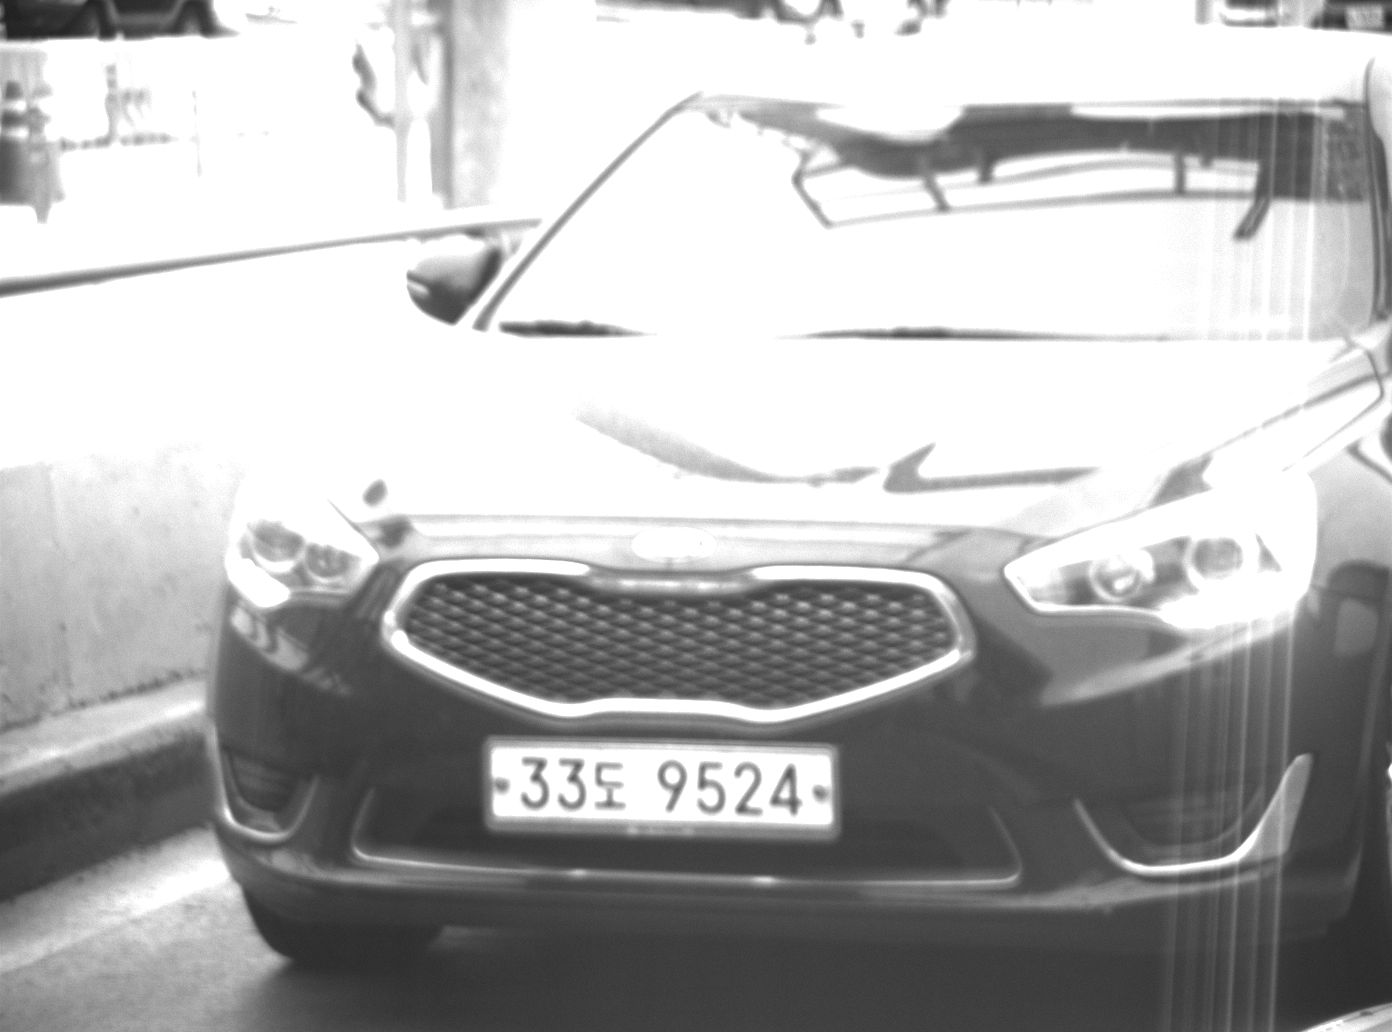car: (202, 27, 1392, 995)
plate: (484, 735, 841, 839)
